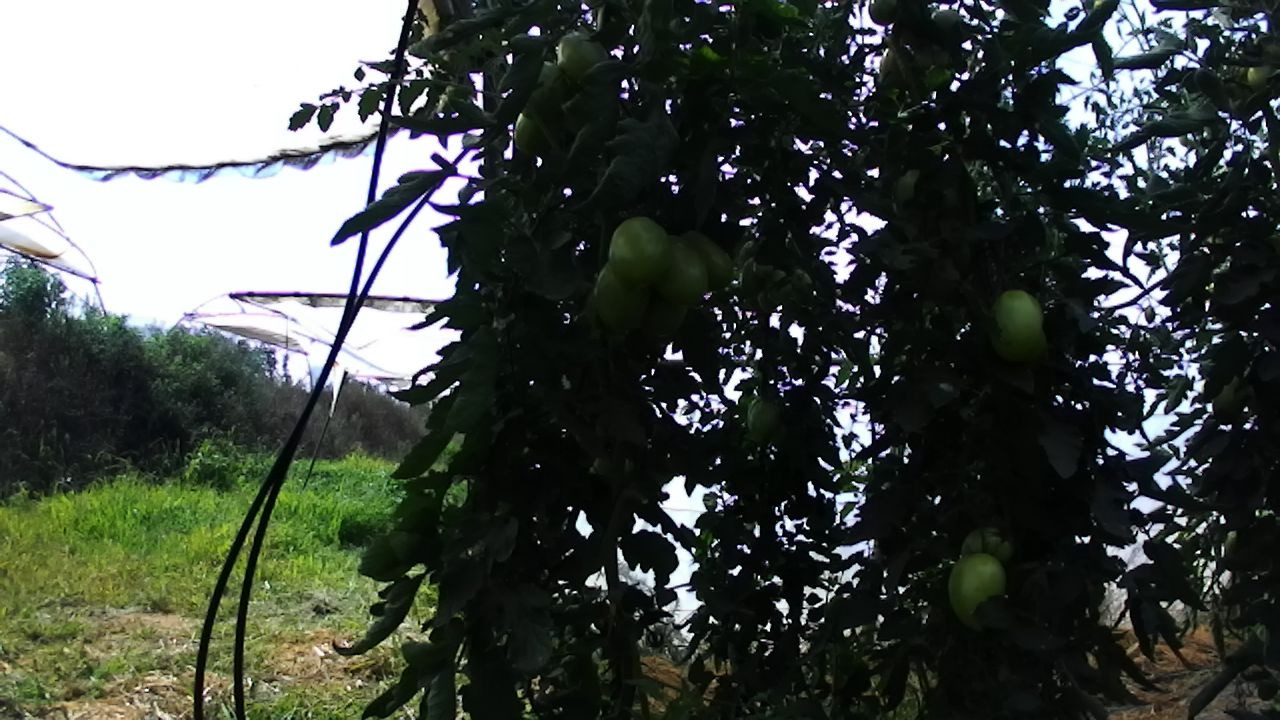tomato: (943, 548, 1009, 637), (588, 257, 655, 337), (605, 214, 674, 290), (648, 229, 712, 307), (985, 286, 1045, 365), (745, 394, 787, 439)
